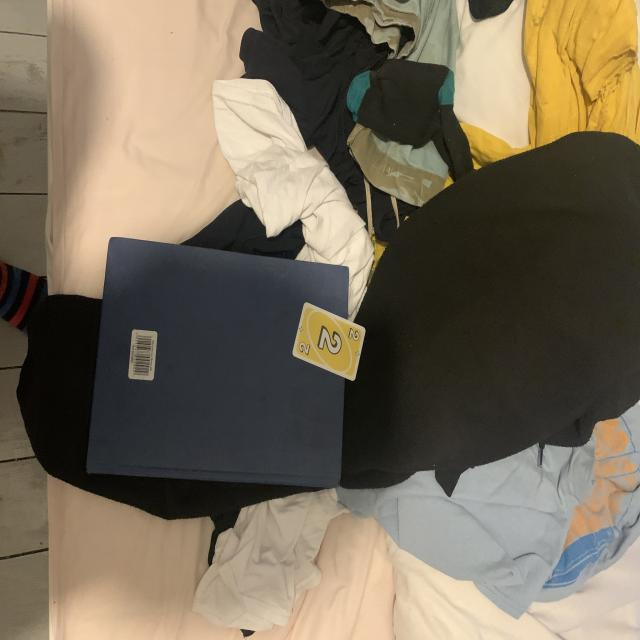lyellow-2: (296, 340, 314, 357)
